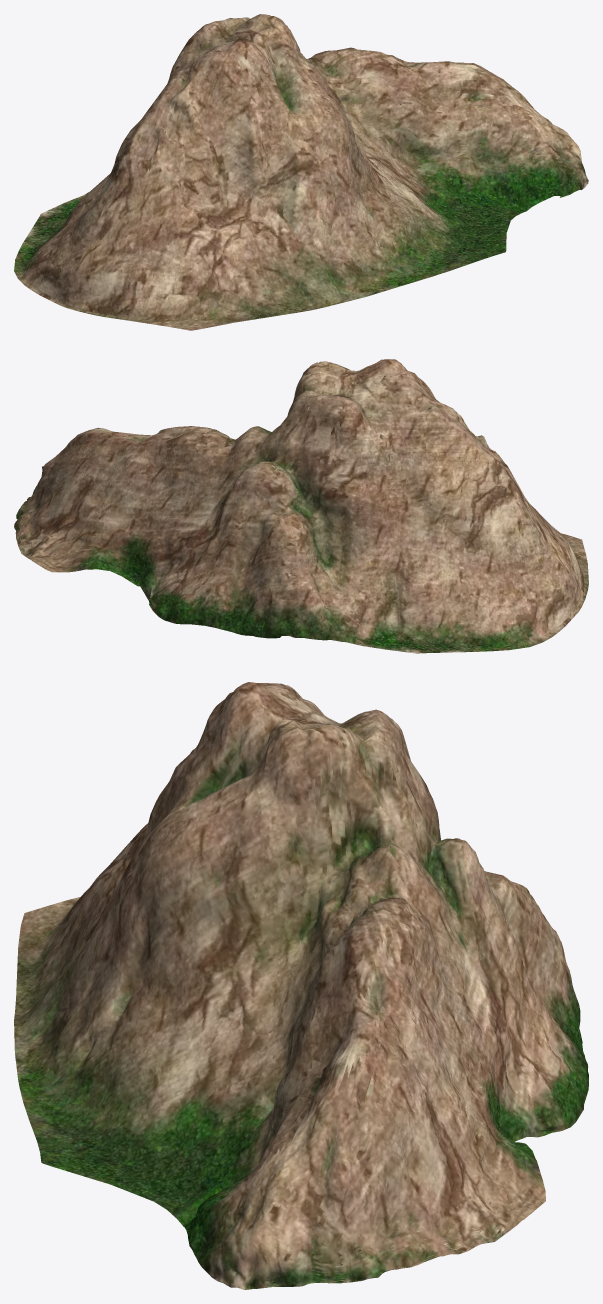
Rendered from Pena.glb.
3 renders of one model, top to bottom at view 1: azimuth 30°, elevation 25°; view 2: azimuth 150°, elevation 25°; view 3: azimuth 270°, elevation 25°, orthographic. The views are drawn at different scales.
Visible parts, largest first — view 1: Landscape; view 2: Landscape; view 3: Landscape.
Boxes of the visible parts, x1=… form: Landscape: x1=14, y1=14, x2=588, y2=330; Landscape: x1=14, y1=359, x2=588, y2=653; Landscape: x1=14, y1=682, x2=588, y2=1289.
Size of the model in its own units: 7.35 by 2.88 by 4.35.
Materials: 1 (1 with a texture image).
